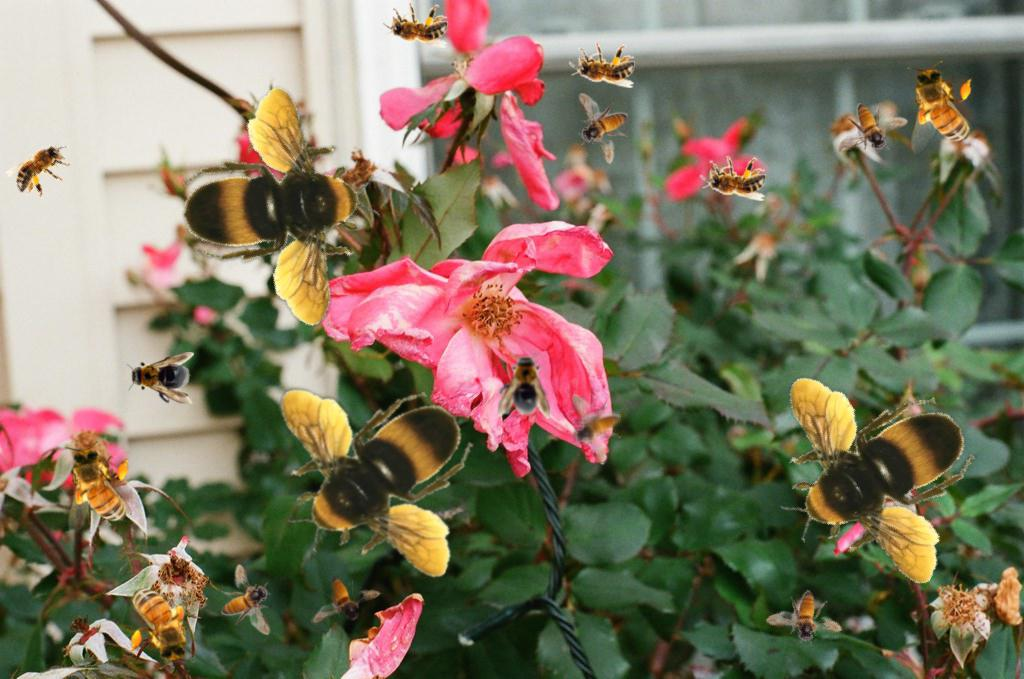Bee: (143, 69, 427, 360), (724, 330, 1012, 609), (230, 340, 508, 603), (764, 579, 852, 658), (907, 61, 975, 154), (127, 576, 195, 669), (64, 441, 132, 534), (3, 128, 83, 207), (311, 575, 382, 625), (837, 103, 908, 153), (221, 564, 271, 635), (571, 394, 621, 465), (578, 93, 628, 164), (498, 351, 550, 419), (126, 352, 194, 404), (700, 156, 766, 201), (569, 43, 635, 88), (382, 3, 448, 48)
